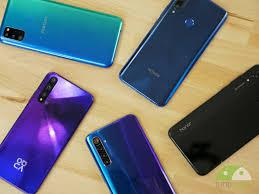Smartphone: (2, 0, 118, 69)
